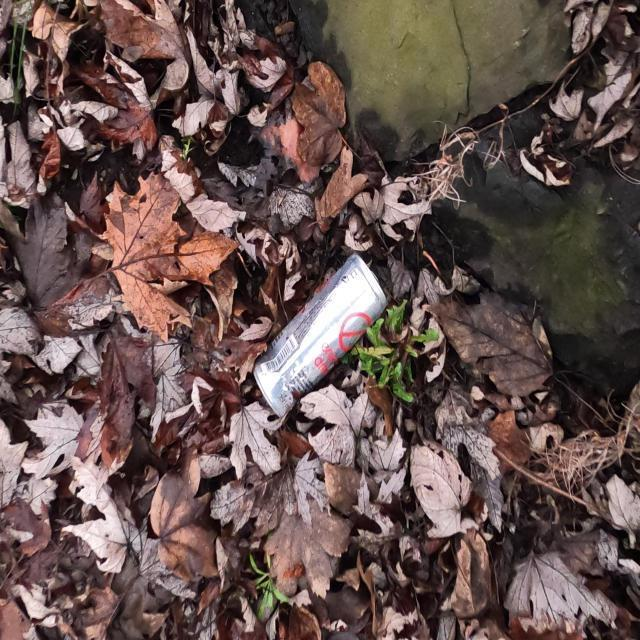Can-Metal: (250, 250, 388, 420)
